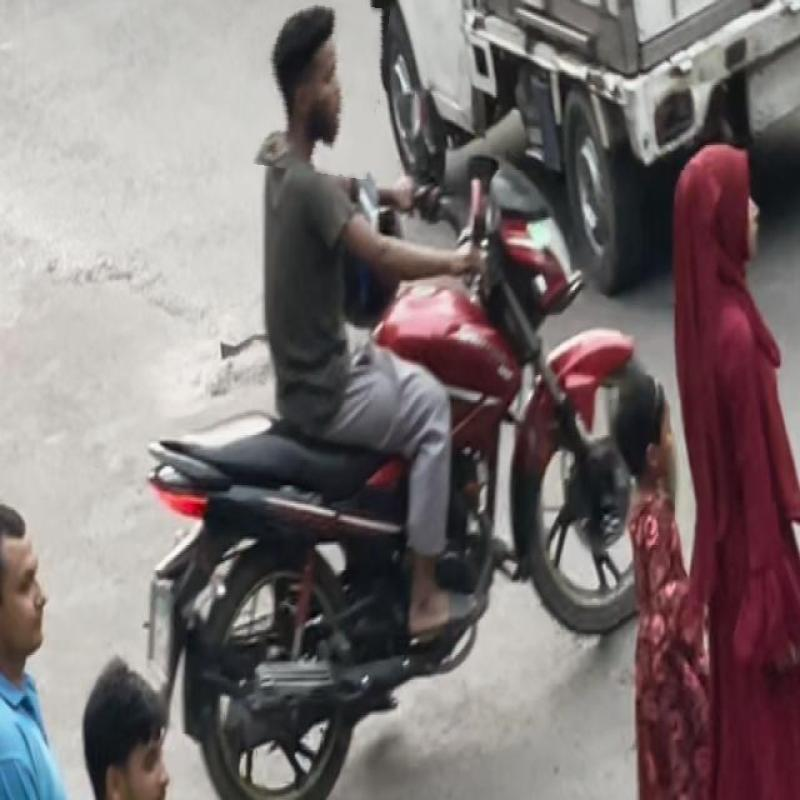nohelmet: (253, 0, 384, 175)
